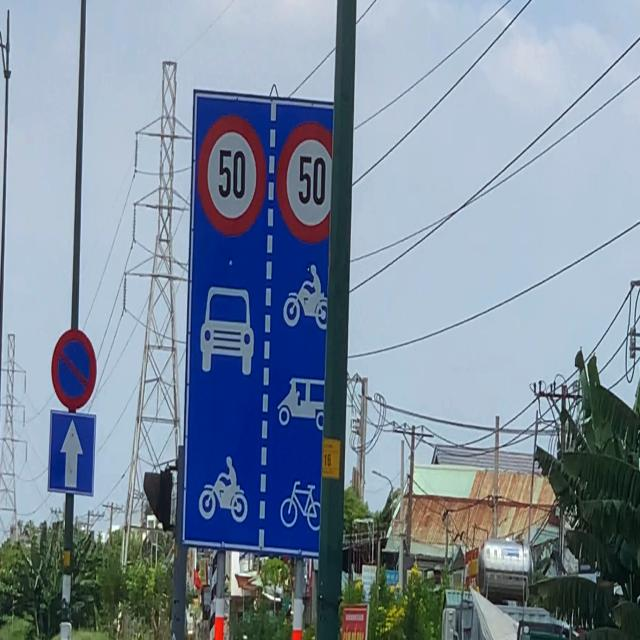Cam do: (52, 328, 98, 408)
Chi dan: (48, 409, 96, 495)
Toc do toi da: (195, 115, 268, 240), (276, 118, 332, 244)
